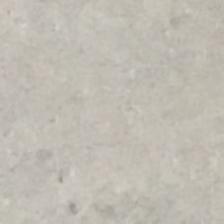Non_Crack: (11, 24, 209, 222)
